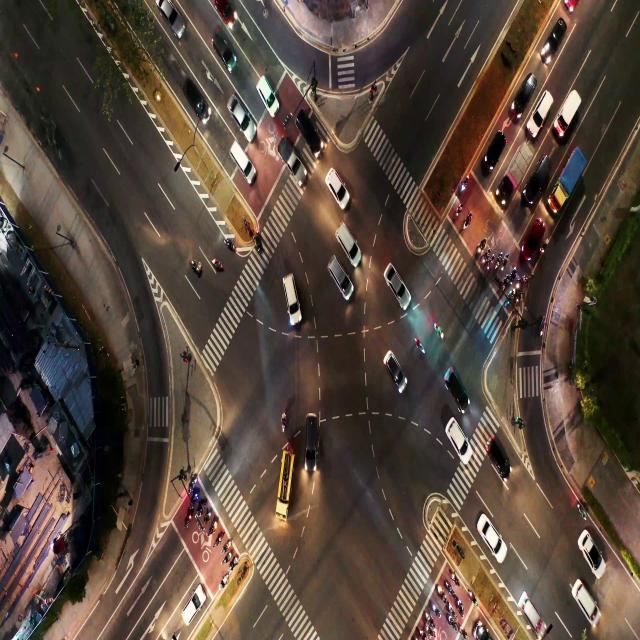bus: (281, 461, 290, 489)
car: (164, 3, 185, 33), (573, 587, 593, 612), (481, 526, 500, 548), (524, 597, 538, 624), (306, 417, 318, 446), (215, 2, 234, 20), (214, 37, 230, 58), (339, 224, 351, 250), (492, 438, 502, 468), (449, 424, 463, 445), (386, 272, 404, 288), (448, 371, 461, 393), (329, 174, 342, 195), (230, 101, 246, 118), (519, 86, 530, 110), (302, 118, 314, 138), (283, 274, 293, 298), (384, 353, 396, 373), (333, 261, 344, 282), (586, 538, 597, 559), (186, 595, 197, 615), (232, 142, 242, 162), (488, 137, 498, 157), (534, 165, 544, 185), (548, 29, 559, 46), (189, 82, 199, 100), (530, 225, 538, 246), (539, 102, 548, 120), (260, 80, 269, 96)
motorcycle: (434, 323, 445, 340), (576, 500, 586, 518), (416, 338, 426, 354), (225, 238, 236, 252), (281, 412, 287, 432), (212, 260, 222, 270), (524, 273, 531, 287), (192, 260, 200, 272), (464, 216, 470, 232), (431, 603, 440, 613), (540, 319, 544, 340), (255, 233, 259, 251), (446, 582, 452, 594), (469, 591, 476, 601), (220, 576, 226, 587), (456, 600, 463, 609), (439, 588, 444, 600), (186, 513, 191, 524), (478, 242, 483, 253), (502, 277, 506, 290), (461, 180, 466, 190), (452, 574, 457, 584), (461, 626, 466, 636), (496, 256, 500, 268), (510, 272, 514, 284), (418, 628, 424, 636), (515, 297, 520, 306), (456, 206, 460, 217), (225, 542, 230, 550), (541, 244, 545, 254), (448, 615, 453, 623), (210, 525, 214, 534), (509, 292, 513, 301), (516, 282, 520, 290), (449, 604, 453, 612), (190, 480, 195, 486), (192, 495, 197, 501), (200, 502, 203, 512), (225, 556, 230, 562), (426, 626, 431, 632), (488, 262, 491, 271), (426, 612, 429, 620), (232, 559, 235, 566), (503, 260, 505, 270), (206, 513, 208, 522), (217, 538, 221, 542), (484, 257, 486, 264)
truck: (516, 152, 526, 181), (284, 149, 297, 171), (560, 101, 571, 124), (565, 168, 576, 189)
